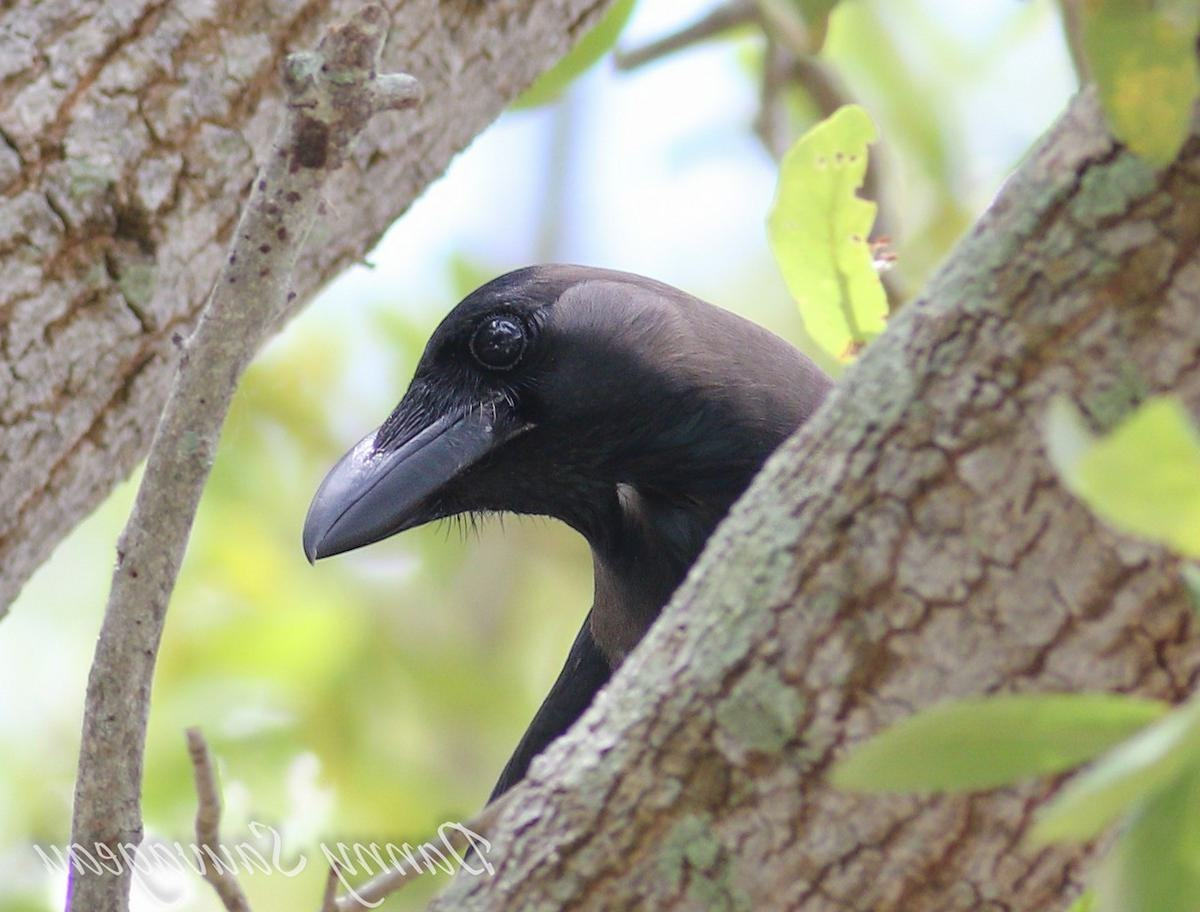crow: (290, 238, 764, 577)
